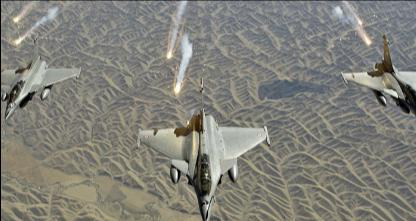RQ4: (136, 76, 270, 220), (339, 33, 415, 131), (1, 34, 81, 122)
